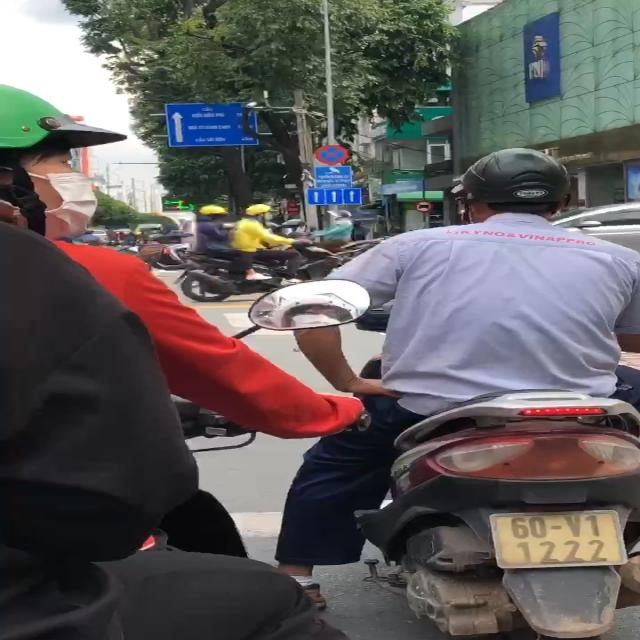Bien bao cam dung xe va do xe: (311, 142, 351, 165)
